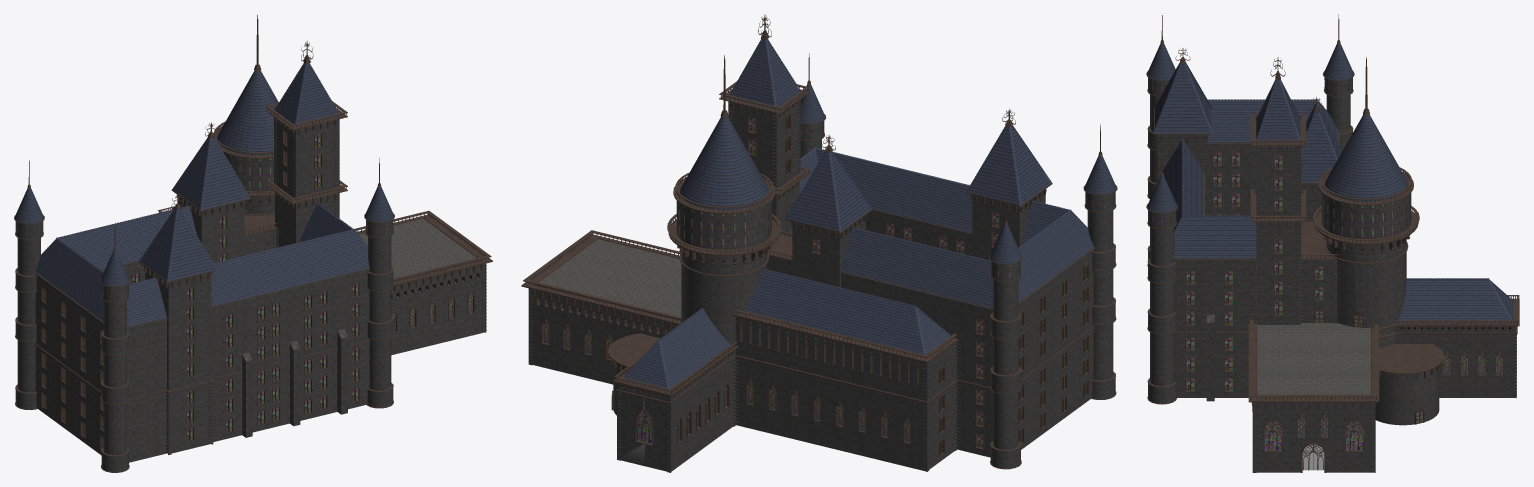
File: castle.obj
3 renders of one model, left to right at view 1: azimuth 30°, elevation 25°; view 2: azimuth 150°, elevation 25°; view 3: azimuth 270°, elevation 25°, orthographic. The views are drawn at different scales.
Parts seen in each view (by area): view 1: Castle; view 2: Castle; view 3: Castle.
Boxes of the visible parts, x1=… form: Castle: x1=14, y1=15, x2=492, y2=472; Castle: x1=521, y1=14, x2=1117, y2=472; Castle: x1=1146, y1=14, x2=1519, y2=472.
Size of the model in its own units: 38.21 by 27.38 by 27.74.
